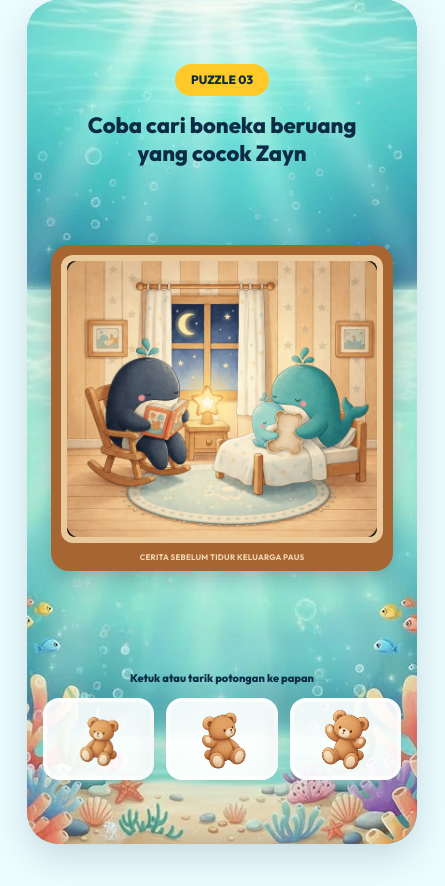
TeddyPuzzleScreen › memberikan feedback salah untuk teddy bersorak
The image size is (445, 886).
Click the button named "pilih teddy bersorak" at [345, 739], box 290,698 -> 401,780
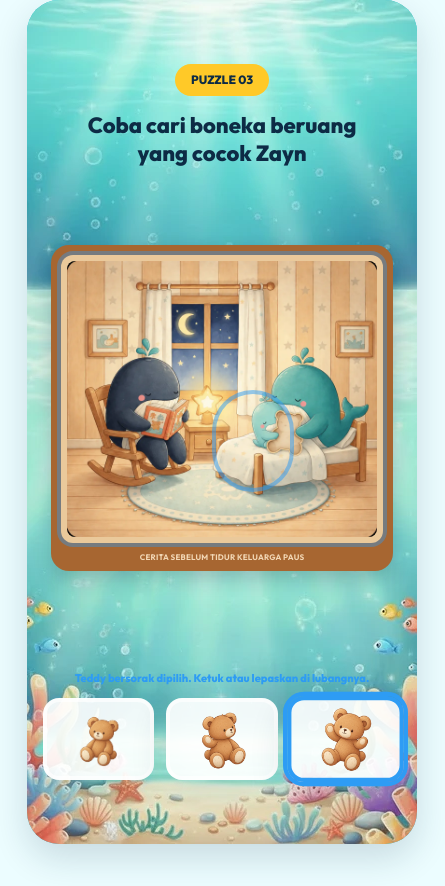
Click the button named "pasang teddy ke papan puzzle" at [222, 399], box 61,255 -> 383,543
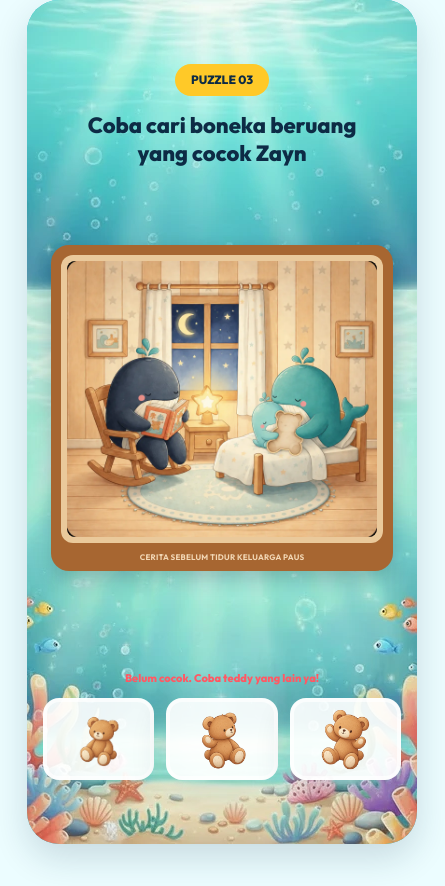
Now the message shows "Belum cocok", box 125,670 -> 319,684
